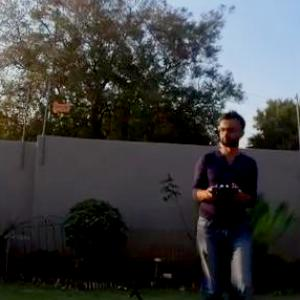follow: (189, 106, 263, 299)
